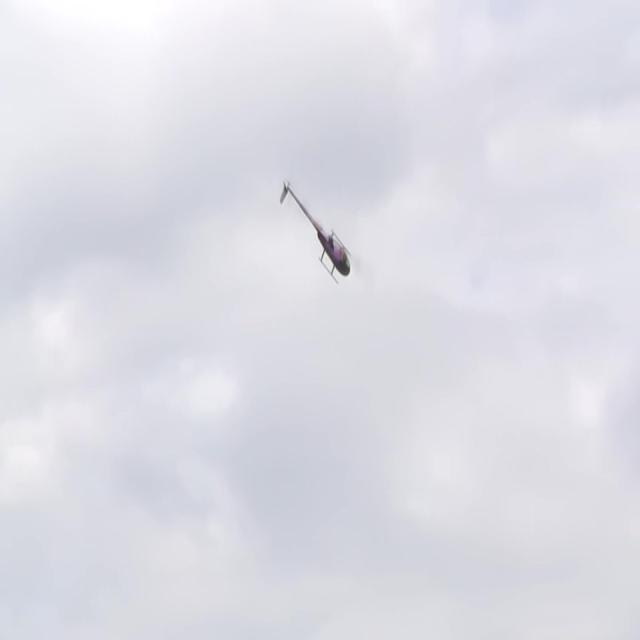CIV_HELO: (280, 177, 352, 285)
